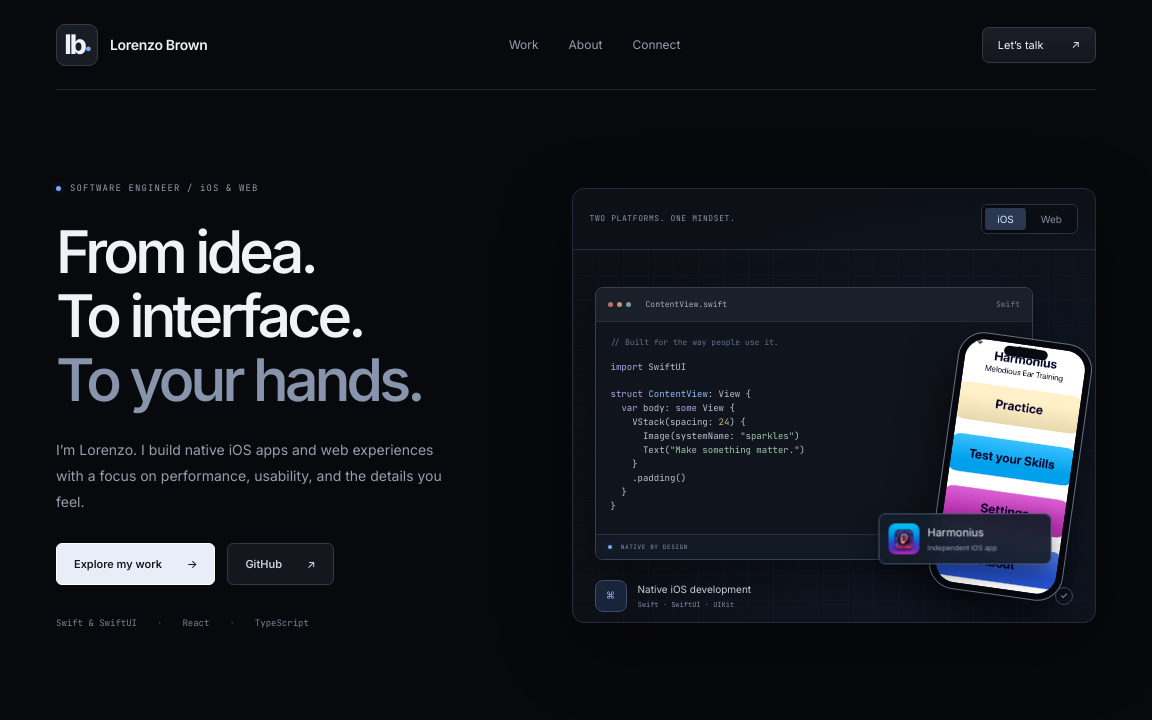
Test case: visitors can explore iOS and web development in the hero
Expected: the text "ContentView.swift" is shown, [646,299,727,309]
Click the button "Web".
click(1051, 218)  # box [1029,208,1074,230]
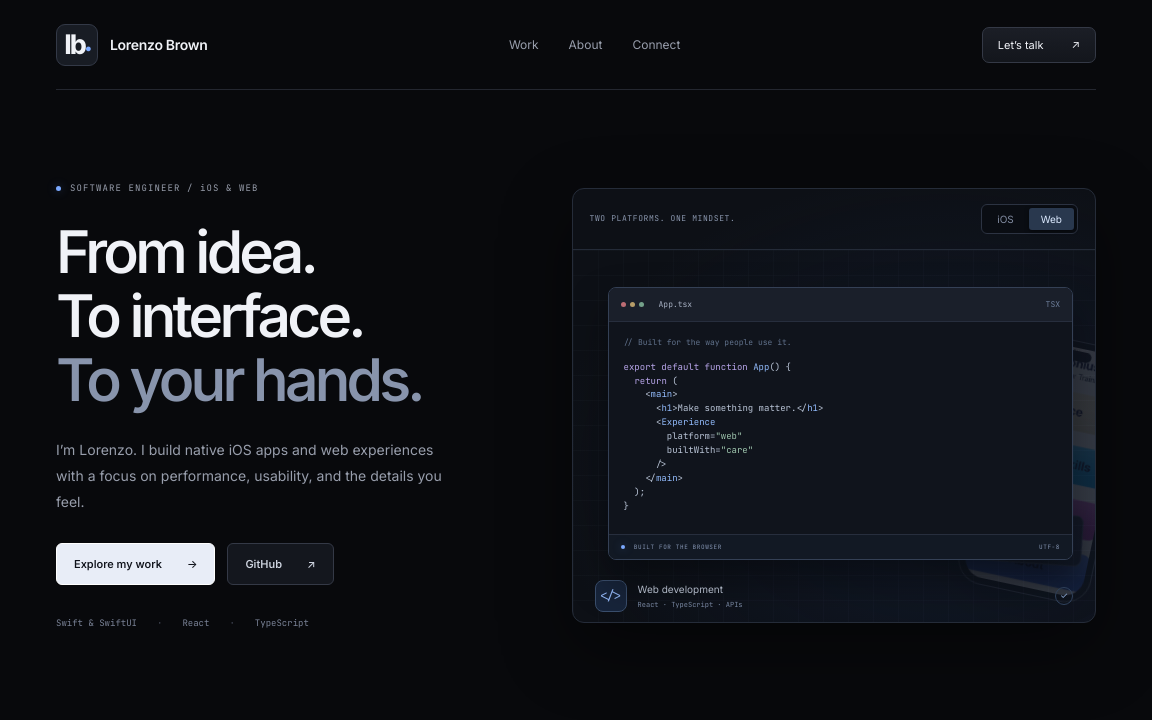
Expected: the text "App.tsx" is shown, [659,299,692,309]
Expected: the text "Web development" is shown, [638,582,723,594]
